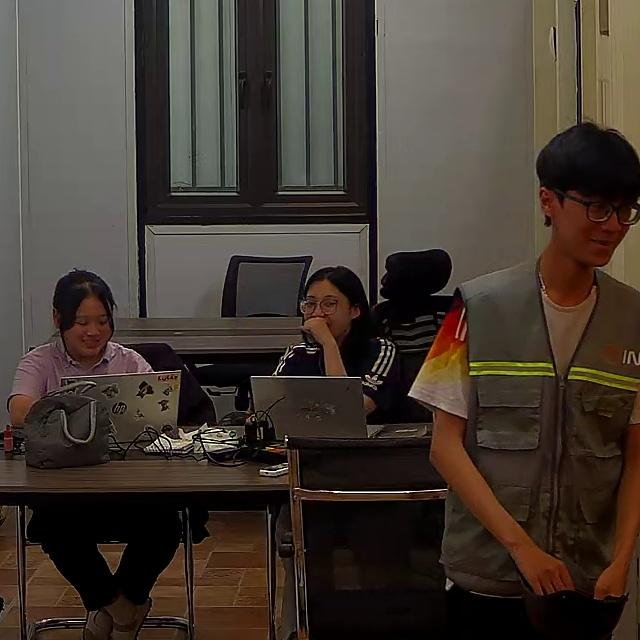no_helmet: (536, 123, 640, 203), (300, 266, 373, 334), (51, 269, 118, 340)
none: (271, 332, 411, 422), (9, 339, 155, 421)
vest: (428, 261, 637, 604)
